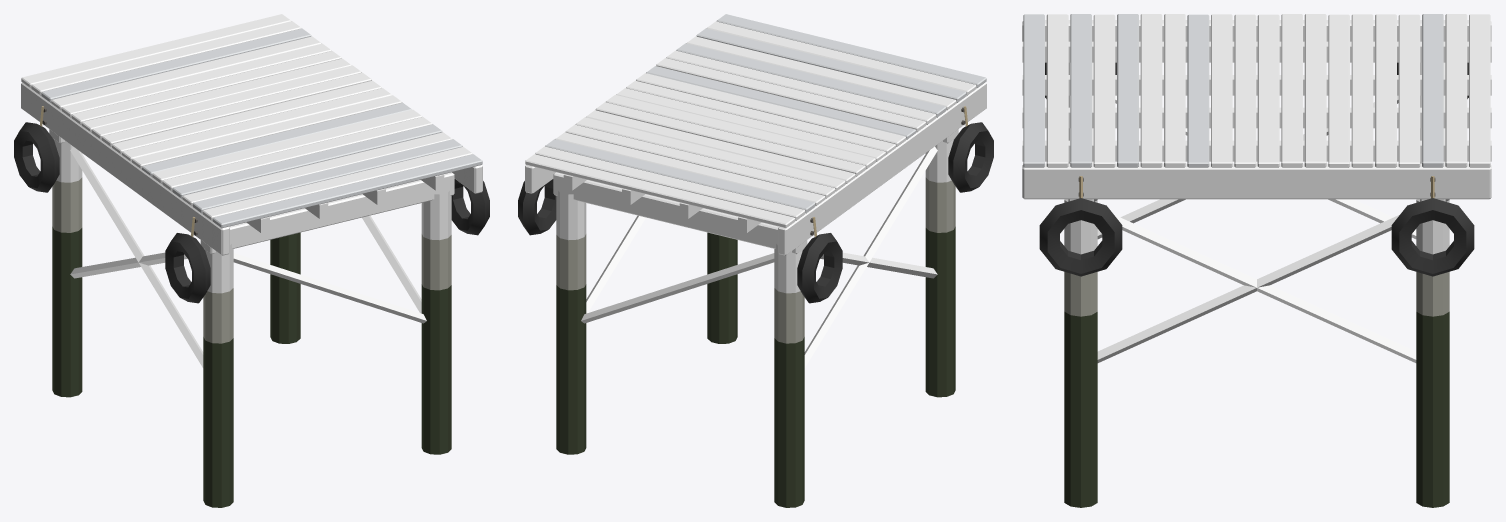
The model's file is dock_straight.glb.
3 renders of one model, left to right at view 1: azimuth 30°, elevation 25°; view 2: azimuth 150°, elevation 25°; view 3: azimuth 270°, elevation 25°, orthographic. The views are drawn at different scales.
Visible parts, largest first — view 1: dock_straight_body; view 2: dock_straight_body; view 3: dock_straight_body.
Part boxes in pixels (left/top/right/bottom): dock_straight_body: left=14, top=14, right=489, bottom=507; dock_straight_body: left=518, top=14, right=993, bottom=507; dock_straight_body: left=1022, top=14, right=1491, bottom=507.
Size of what is drawn, in the model's own units: 3.39 by 3.3 by 4.
